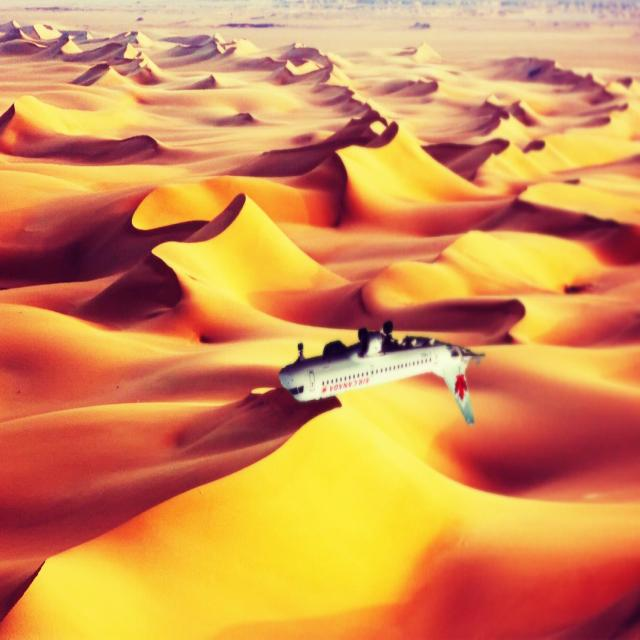airplane: (278, 319, 486, 425)
